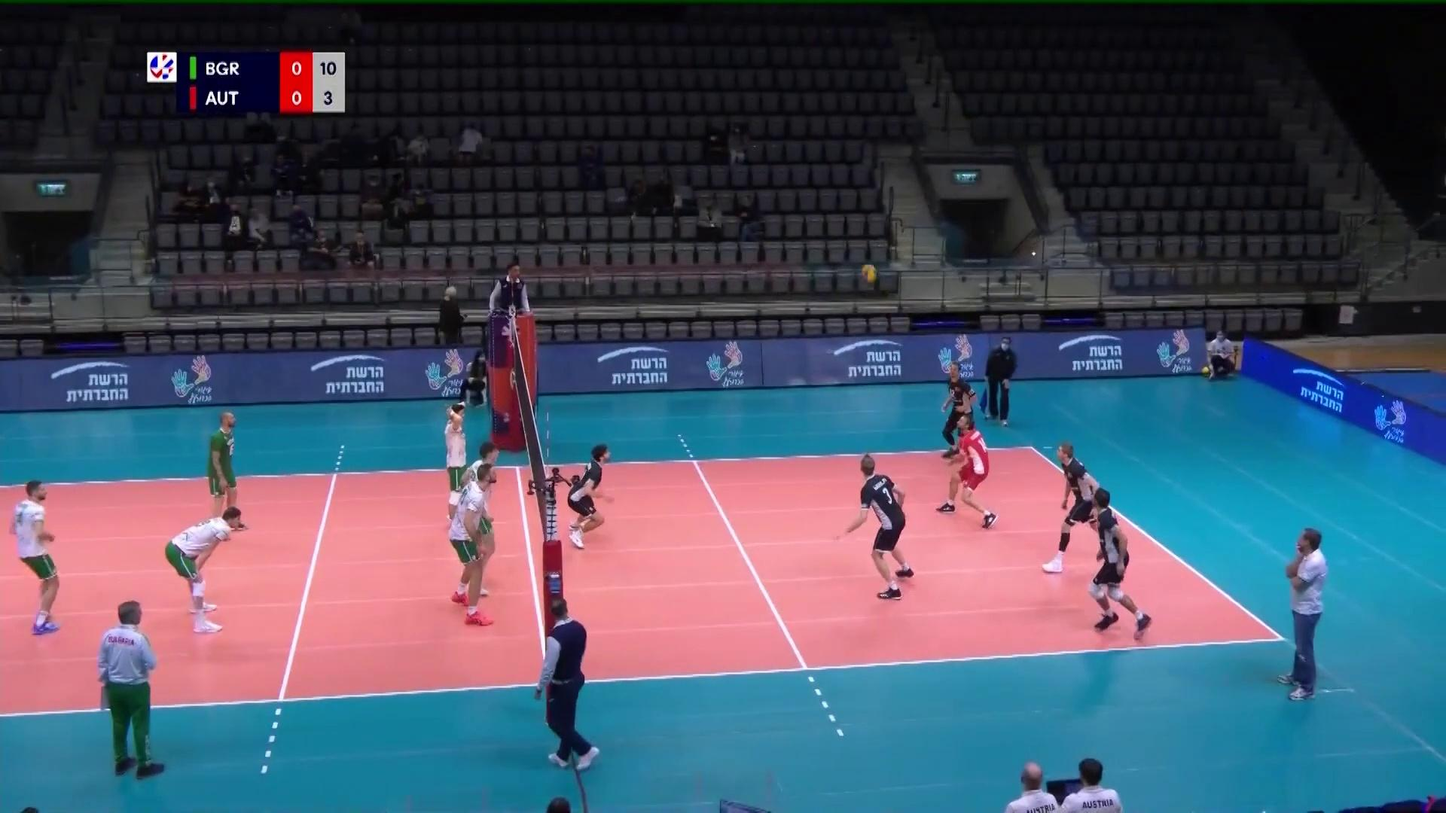ball: (861, 264, 879, 283)
